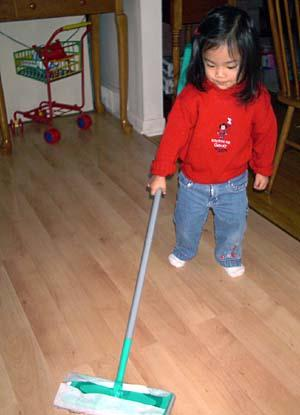person: (147, 6, 279, 280)
